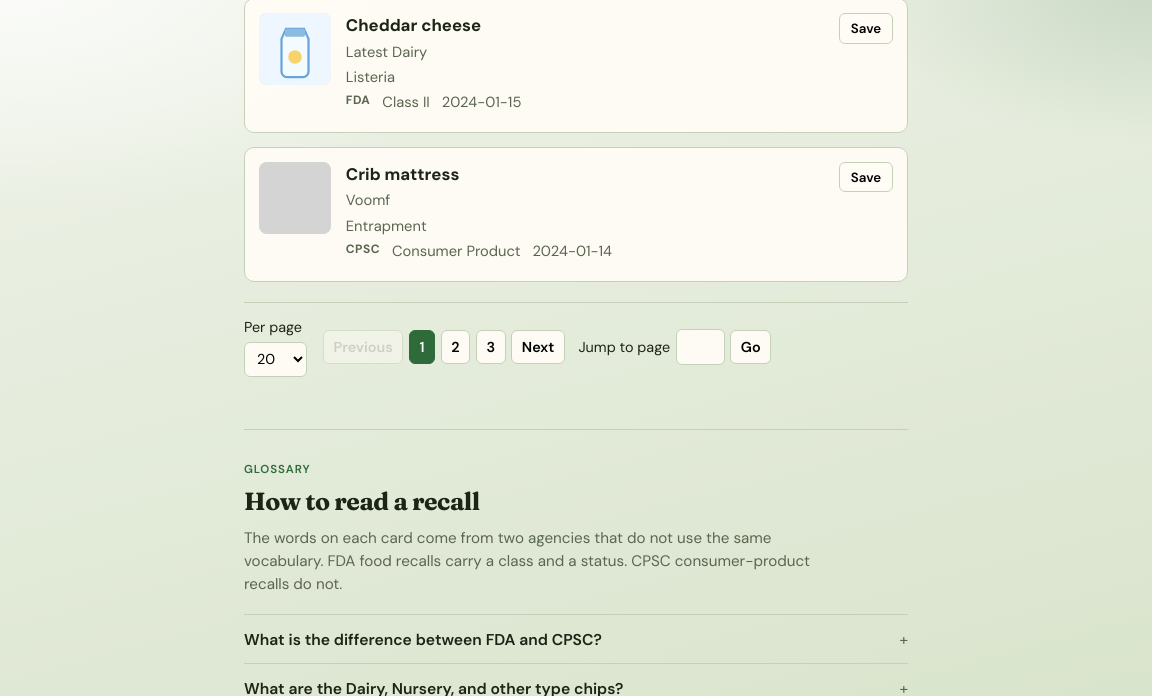
Test: App › reloads the list for the chosen source and resets to page 1 without a keyword
(page scrolled)
Expected: the text "Latest Dairy" is shown, [346, 42, 427, 62]
Click the button "Next" at (538, 347), box [511, 330, 565, 364]
(page scrolled)
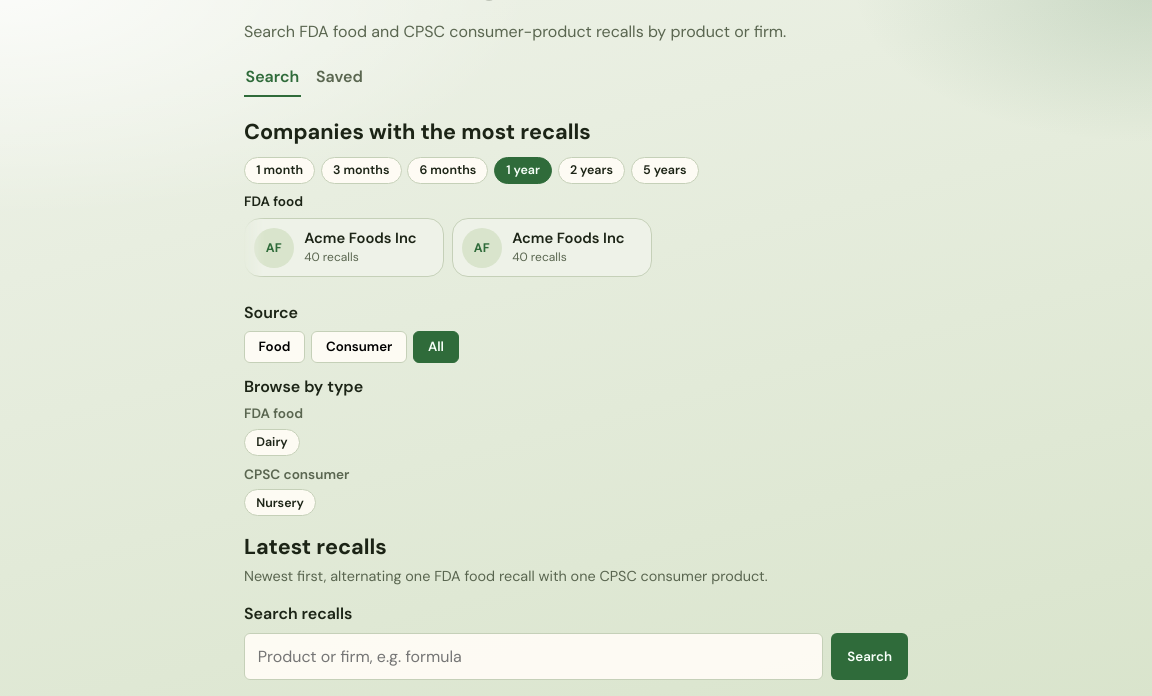
Click the button "Consumer" at (359, 347), box [311, 331, 407, 363]
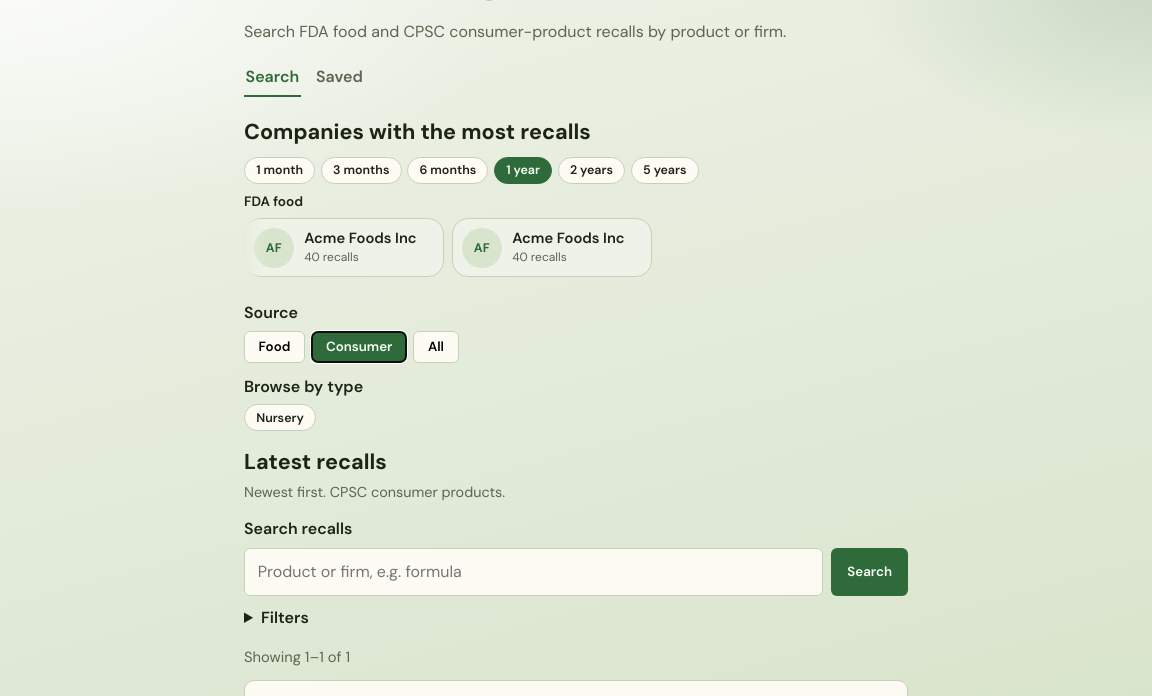
Expected: the heading "Latest recalls" is shown, [244, 447, 387, 478]
Now the text "Showing 1–1 of 1" is shown, box [244, 647, 350, 667]
